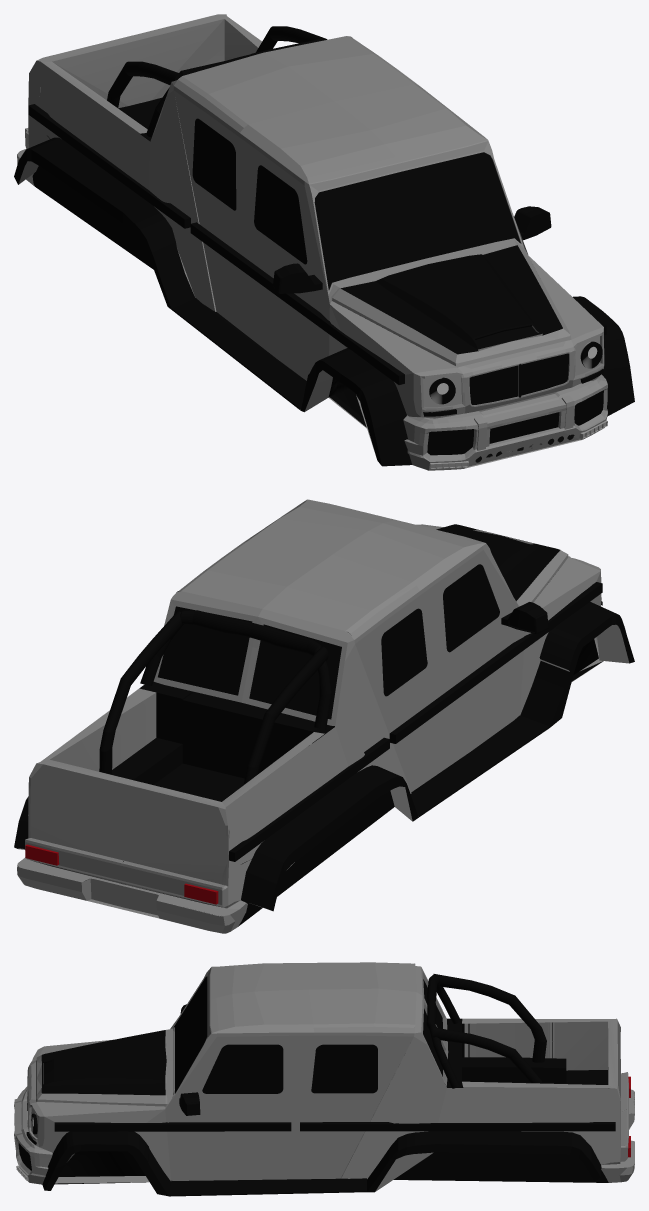
File: FIXED Mesh.fbx
The picture shows the model from 3 angles, top to bottom: view 1: azimuth 30°, elevation 25°; view 2: azimuth 150°, elevation 25°; view 3: azimuth 270°, elevation 25°; orthographic projection. The views are drawn at different scales.
Visible parts, largest first — view 1: CARBODY; view 2: CARBODY; view 3: CARBODY.
Boxes of the visible parts, bbox=[...] form: CARBODY: bbox=[14, 14, 634, 470]; CARBODY: bbox=[14, 499, 634, 933]; CARBODY: bbox=[14, 962, 634, 1196].
Size of the model in its own units: 207 by 155 by 536.
